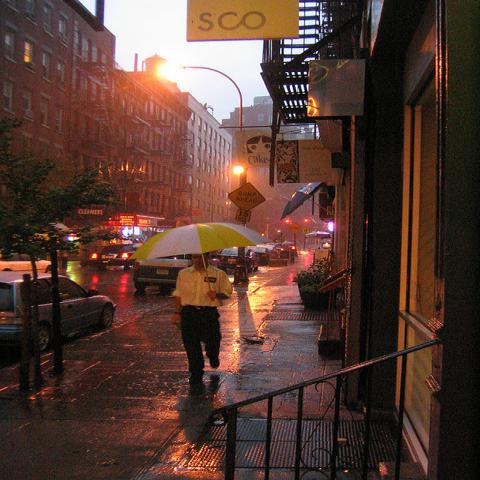car: (2, 271, 120, 352), (133, 256, 192, 294), (88, 243, 141, 272), (217, 248, 259, 274), (0, 253, 52, 274), (256, 244, 280, 260), (248, 247, 270, 264), (266, 243, 284, 252), (280, 242, 297, 251)
